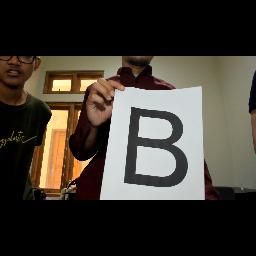b: (120, 105, 192, 191)
